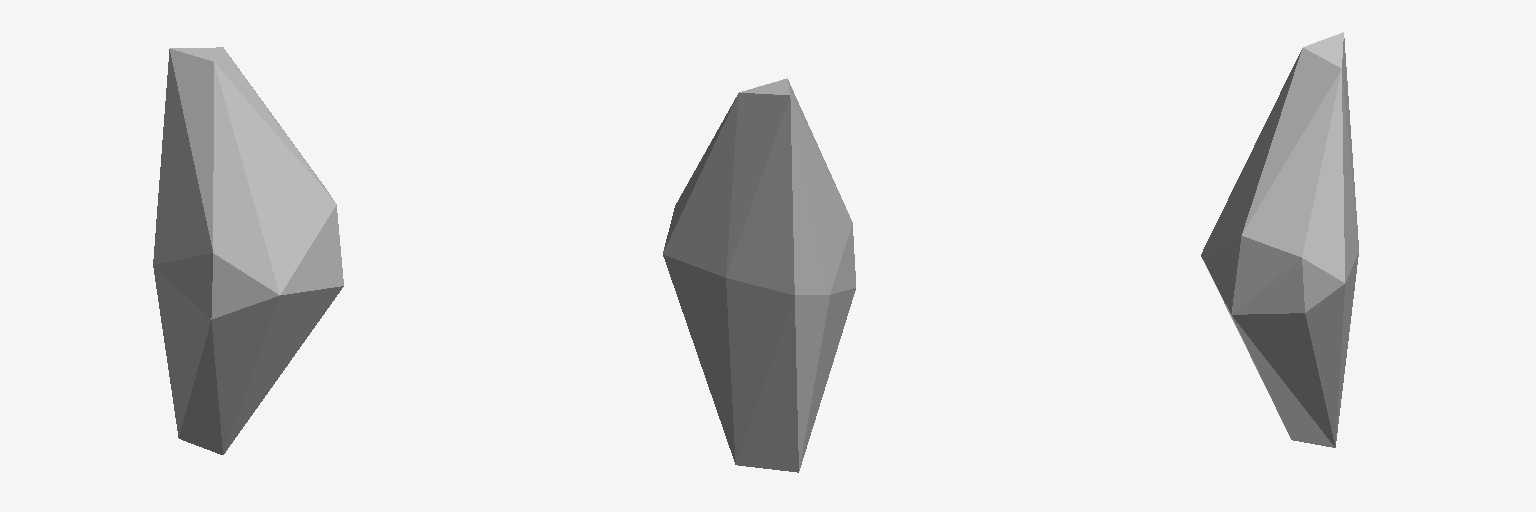
File: croissant_02_col.obj
3 renders of one model, left to right at view 1: azimuth 30°, elevation 25°; view 2: azimuth 150°, elevation 25°; view 3: azimuth 270°, elevation 25°, orthographic.
Visible parts, largest first — view 1: croissant_02_collision; view 2: croissant_02_collision; view 3: croissant_02_collision.
Part boxes in pixels (left/top/right/bottom): croissant_02_collision: left=153, top=47, right=343, bottom=454; croissant_02_collision: left=663, top=78, right=855, bottom=472; croissant_02_collision: left=1201, top=32, right=1358, bottom=447.
Bounding box in the file's own units: 2.88 × 6.57 × 2.39.